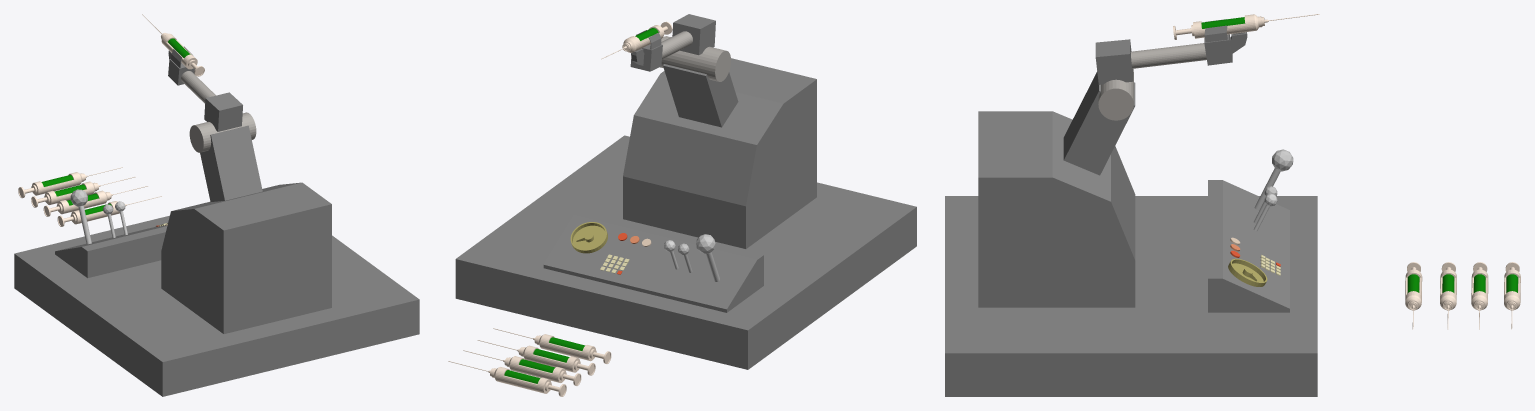
The model's file is iğne.fbx.
3 views of the same model, side by side, from view 1: azimuth 30°, elevation 25°; view 2: azimuth 150°, elevation 25°; view 3: azimuth 270°, elevation 25° (orthographic). The views are drawn at different scales.
Parts seen in each view (by area): view 1: Cube, Cube.001, Cube.004, Cube.002, Cylinder, Cylinder.013, Cylinder.012, Cylinder.011, Cylinder.008, Cylinder.002, Cube.003, Cylinder.001 (+1 smaller); view 2: Cube, Cube.001, Cube.004, Cylinder, Cube.002, Cylinder.002, Cylinder.013, Cylinder.012, Cylinder.011, Cylinder.003, Cube.003, Cylinder.008 (+2 smaller); view 3: Cube, Cube.001, Cube.004, Cube.002, Cylinder.001, Cylinder, Cube.003, Cylinder.008, Cylinder.012, Cylinder.013, Cylinder.011, Cylinder.002 (+2 smaller).
Boxes of the visible parts, x1,y1,x2,y2 form: Cube: (14,215,419,396); Cube.001: (161,125,331,333); Cube.004: (55,225,167,278); Cube.002: (204,92,242,131); Cylinder: (189,112,256,152); Cylinder.013: (18,167,122,198); Cylinder.012: (31,176,135,207); Cylinder.011: (43,186,147,216); Cylinder.008: (142,14,204,76); Cylinder.002: (57,196,161,226); Cube.003: (168,46,194,85); Cylinder.001: (181,71,215,103); Cube: (455,135,916,369); Cube.001: (623,58,816,248); Cube.004: (543,210,763,312); Cylinder: (660,36,730,81); Cube.002: (672,14,715,55); Cylinder.002: (493,328,611,363); Cylinder.013: (448,361,566,396); Cylinder.012: (463,350,581,385); Cylinder.011: (477,340,595,375); Cylinder.003: (570,222,607,253); Cube.003: (630,30,662,71); Cylinder.008: (601,21,672,59); Cube: (945,196,1317,396); Cube.001: (978,71,1135,307); Cube.004: (1208,180,1289,312); Cube.002: (1095,39,1133,84); Cylinder.001: (1130,43,1206,68); Cylinder: (1098,69,1133,120); Cube.003: (1204,19,1247,65); Cylinder.008: (1173,14,1319,39); Cylinder.012: (1471,262,1488,329); Cylinder.013: (1504,262,1520,329); Cylinder.011: (1440,262,1456,329); Cylinder.002: (1405,262,1422,329).
Bounding box in the file's own units: 319 × 288 × 494.
